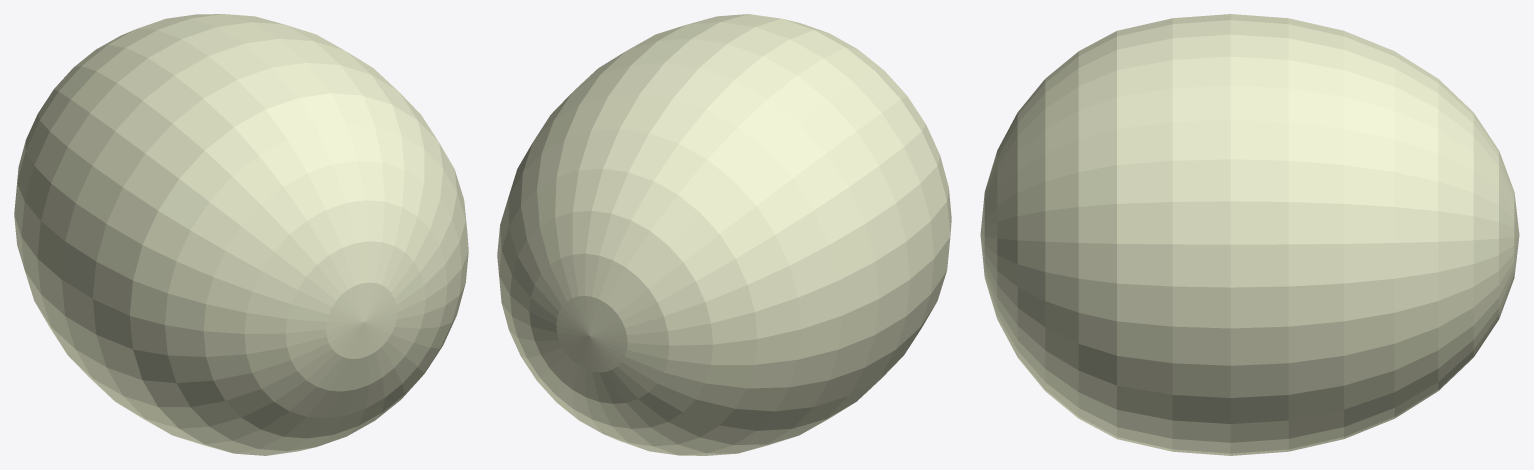
The model's file is P_Egg.FBX.
3 renders of one model, left to right at view 1: azimuth 30°, elevation 25°; view 2: azimuth 150°, elevation 25°; view 3: azimuth 270°, elevation 25°, orthographic. The views are drawn at different scales.
Visible parts, largest first — view 1: Egg; view 2: Egg; view 3: Egg.
Part boxes in pixels (<box>): Egg: <box>14,14,468,455</box>; Egg: <box>497,14,951,455</box>; Egg: <box>980,14,1519,455</box>.
Bounding box in the file's own units: 8.74 × 10.64 × 8.74.
